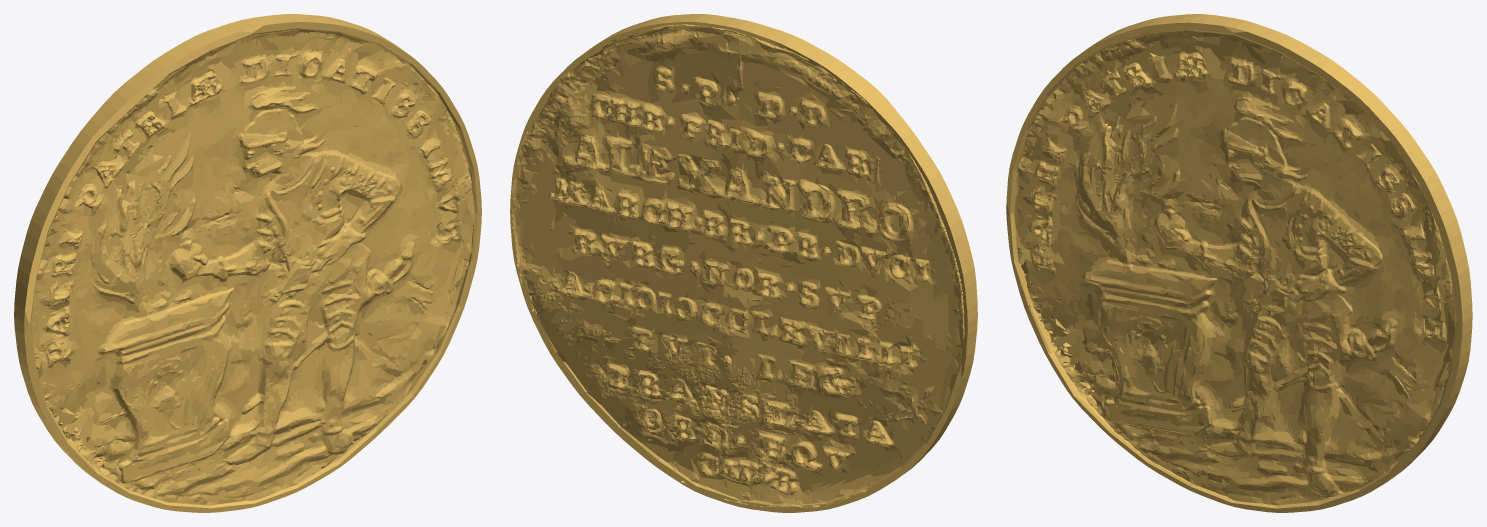
Rendered from Dukat_Artefakt.glb.
The picture shows the model from 3 angles, left to right: view 1: azimuth 30°, elevation 25°; view 2: azimuth 150°, elevation 25°; view 3: azimuth 330°, elevation 25°; orthographic projection.
Parts seen in each view (by area): view 1: Plane, Cylinder; view 2: Plane, Cylinder; view 3: Plane, Cylinder.
Part boxes in pixels (box(x1,y1,x2,y2)): Plane: box(31, 29, 474, 505); Cylinder: box(14, 14, 481, 512); Plane: box(511, 24, 964, 507); Cylinder: box(510, 14, 977, 512); Plane: box(1014, 30, 1455, 505); Cylinder: box(1006, 14, 1472, 512).
Bounding box in the file's own units: 0.2625 × 0.2625 × 0.0186.
